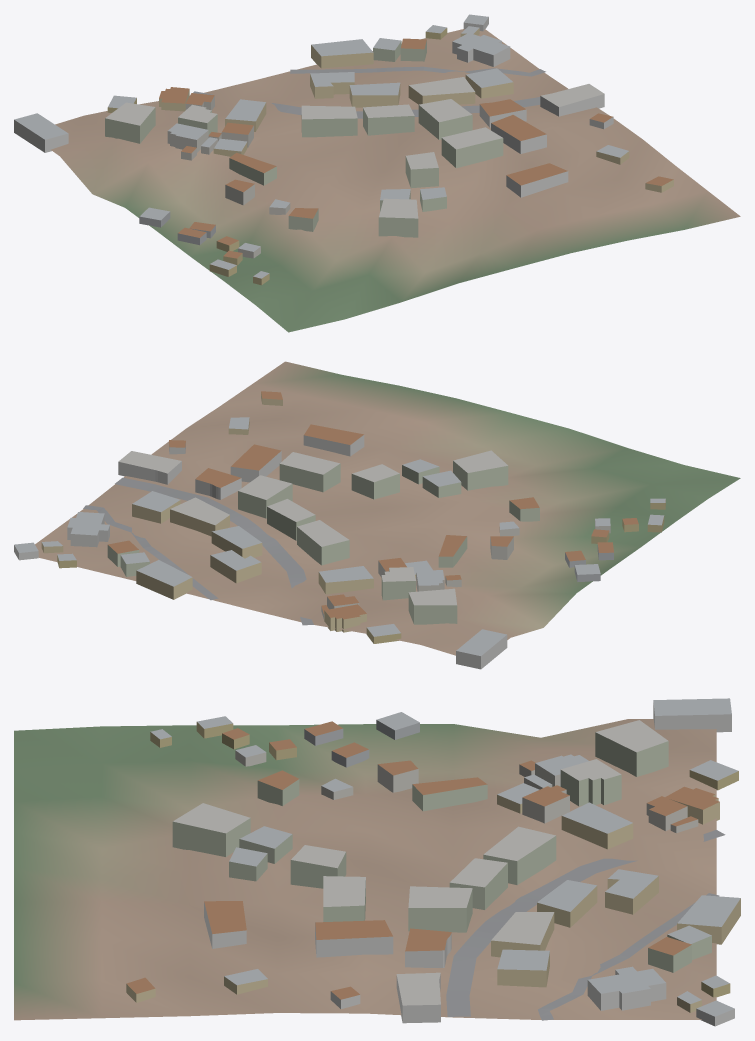
The picture shows the model from 3 angles, top to bottom: view 1: azimuth 30°, elevation 25°; view 2: azimuth 150°, elevation 25°; view 3: azimuth 270°, elevation 25°; orthographic projection. The views are drawn at different scales.
Parts seen in each view (by area): view 1: Lo; view 2: Lo; view 3: Lo.
Part boxes in pixels (x1,y1,x2,y2): Lo: (14,14,740,332); Lo: (14,361,740,669); Lo: (14,698,740,1026).
Size of the model in its own units: 266 by 20.12 by 265.
